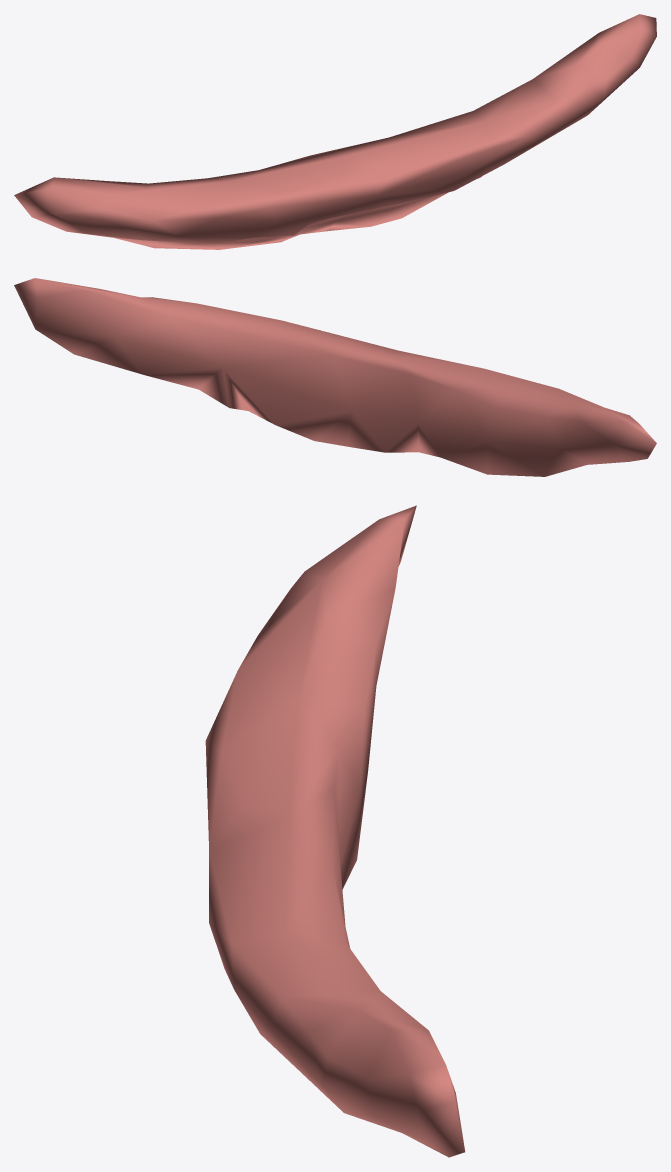
File: fma46848_mm1101.glb
3 renders of one model, top to bottom at view 1: azimuth 30°, elevation 25°; view 2: azimuth 150°, elevation 25°; view 3: azimuth 270°, elevation 25°, orthographic. The views are drawn at different scales.
Parts seen in each view (by area): view 1: FMA46848_MM1101; view 2: FMA46848_MM1101; view 3: FMA46848_MM1101.
Part boxes in pixels (bbox=[...]): FMA46848_MM1101: bbox=[14, 14, 656, 249]; FMA46848_MM1101: bbox=[14, 278, 656, 476]; FMA46848_MM1101: bbox=[205, 505, 465, 1157].
Size of the model in its own units: 0.0281 by 0.00503 by 0.00499.
